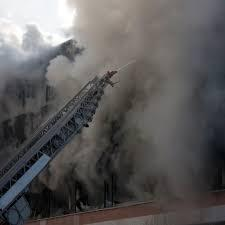smoke: (102, 8, 210, 176)
